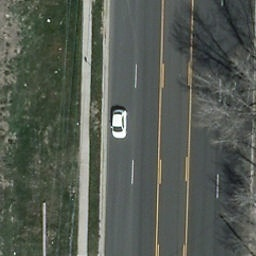car: (112, 109, 128, 140)
